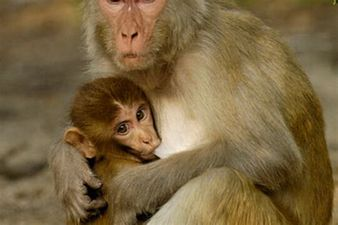monkey: (50, 1, 321, 212), (56, 71, 214, 209)
